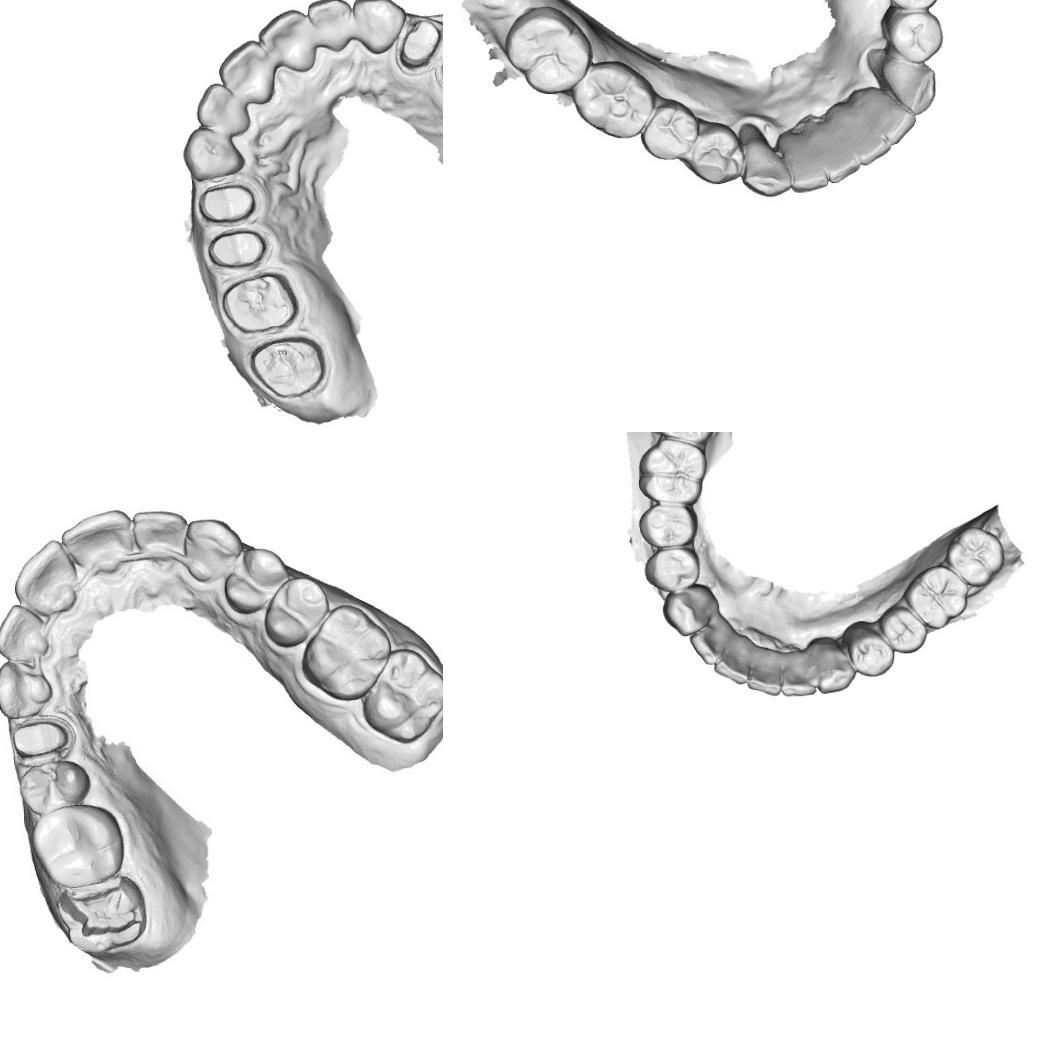canine: (183, 514, 245, 584), (878, 56, 939, 116), (182, 128, 246, 182), (740, 134, 792, 200), (352, 0, 408, 57), (660, 584, 718, 638), (0, 662, 53, 720), (812, 640, 856, 696)
crown: (218, 268, 302, 336), (248, 333, 328, 400), (195, 179, 262, 227), (203, 226, 272, 272), (10, 712, 72, 762), (394, 16, 443, 75)
incisor: (11, 537, 79, 618), (59, 507, 135, 575), (217, 38, 276, 106), (258, 8, 317, 74), (0, 601, 55, 666), (195, 81, 252, 136), (130, 509, 186, 563), (306, 0, 354, 54), (687, 618, 732, 666), (778, 648, 818, 699), (713, 635, 752, 686), (745, 648, 782, 697), (875, 98, 914, 144), (822, 140, 866, 180), (856, 124, 892, 164), (785, 161, 831, 192)
inlay: (54, 876, 146, 940)
molar: (298, 600, 399, 704), (502, 0, 591, 98), (28, 802, 126, 890), (359, 645, 443, 745), (572, 60, 657, 140), (636, 437, 708, 505), (902, 563, 970, 631), (943, 524, 1006, 588), (647, 432, 723, 447)
premolar: (261, 576, 329, 650), (222, 546, 290, 616), (15, 758, 92, 814), (880, 4, 946, 64), (639, 100, 699, 164), (688, 121, 744, 185), (636, 502, 701, 550), (642, 546, 702, 593), (846, 622, 896, 678), (876, 604, 929, 654)
